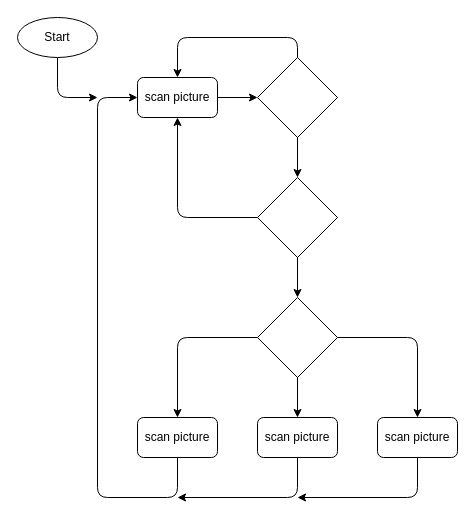
This 475x523 diagram has some shape labels left out. Each missing label, with the centre of its shape:
"is banana?" belongs at [297,217].
"object detected?" belongs at [297,97].
"ripeness?" belongs at [297,337].
